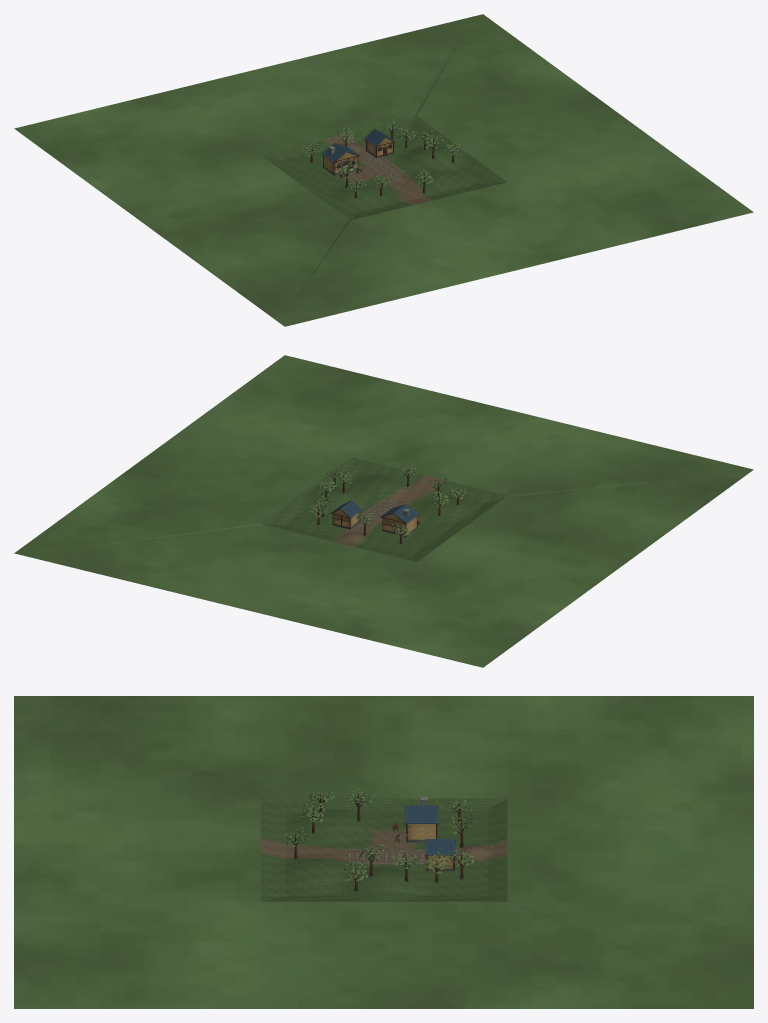
The model's file is stoneford-reference-v1.glb.
3 renders of one model, top to bottom at view 1: azimuth 30°, elevation 25°; view 2: azimuth 150°, elevation 25°; view 3: azimuth 270°, elevation 25°, orthographic. The views are drawn at different scales.
Visible parts, largest first — view 1: GB_STONEFORD_STREET, GB_STONEFORD_FORGE_CUTAWAY; view 2: GB_STONEFORD_STREET, GB_STONEFORD_FORGE_CUTAWAY; view 3: GB_STONEFORD_STREET, GB_STONEFORD_FORGE_CUTAWAY.
Part boxes in pixels (x1,y1,x2,y2): GB_STONEFORD_STREET: (14,14,753,326); GB_STONEFORD_FORGE_CUTAWAY: (321,143,359,175); GB_STONEFORD_STREET: (14,355,753,667); GB_STONEFORD_FORGE_CUTAWAY: (380,504,418,536); GB_STONEFORD_STREET: (14,696,753,1008); GB_STONEFORD_FORGE_CUTAWAY: (405,797,438,842).
Bounding box in the file's own units: 147 × 8.54 × 147.
Materials: 2 (1 with a texture image).
